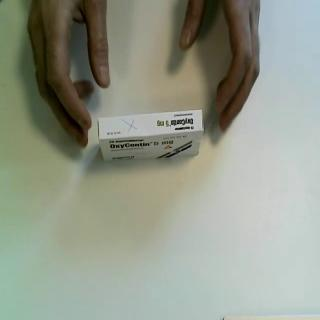oxycontin5mg: (97, 109, 205, 165)
